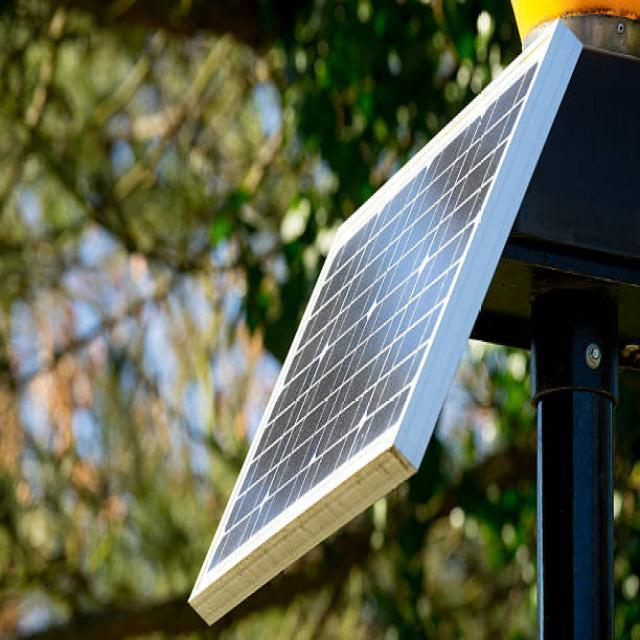Normal Solar Panel: (192, 25, 563, 598)
